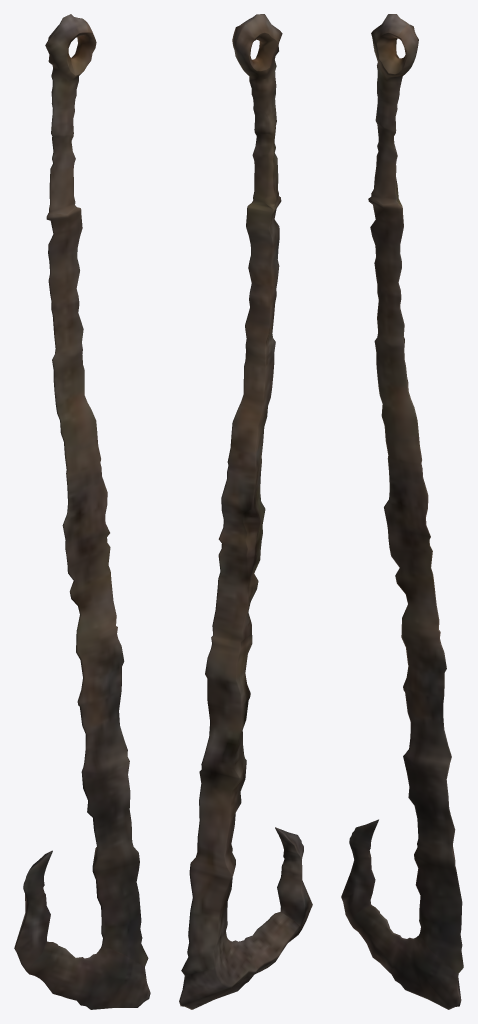
File: weapon-wp_a_0631.glb
3 views of the same model, side by side, from view 1: azimuth 30°, elevation 25°; view 2: azimuth 210°, elevation 25°; view 3: azimuth 330°, elevation 25° (orthographic). The views are drawn at different scales.
Visible parts, largest first — view 1: wp_a_0631_mesh; view 2: wp_a_0631_mesh; view 3: wp_a_0631_mesh.
Boxes of the visible parts, x1,y1,x2,y2 form: wp_a_0631_mesh: [14, 14, 150, 1009]; wp_a_0631_mesh: [179, 14, 312, 1009]; wp_a_0631_mesh: [341, 14, 463, 1009].
Size of the model in its own units: 0.2131 by 1.57 by 0.0769.
1 material, 1 textured.
